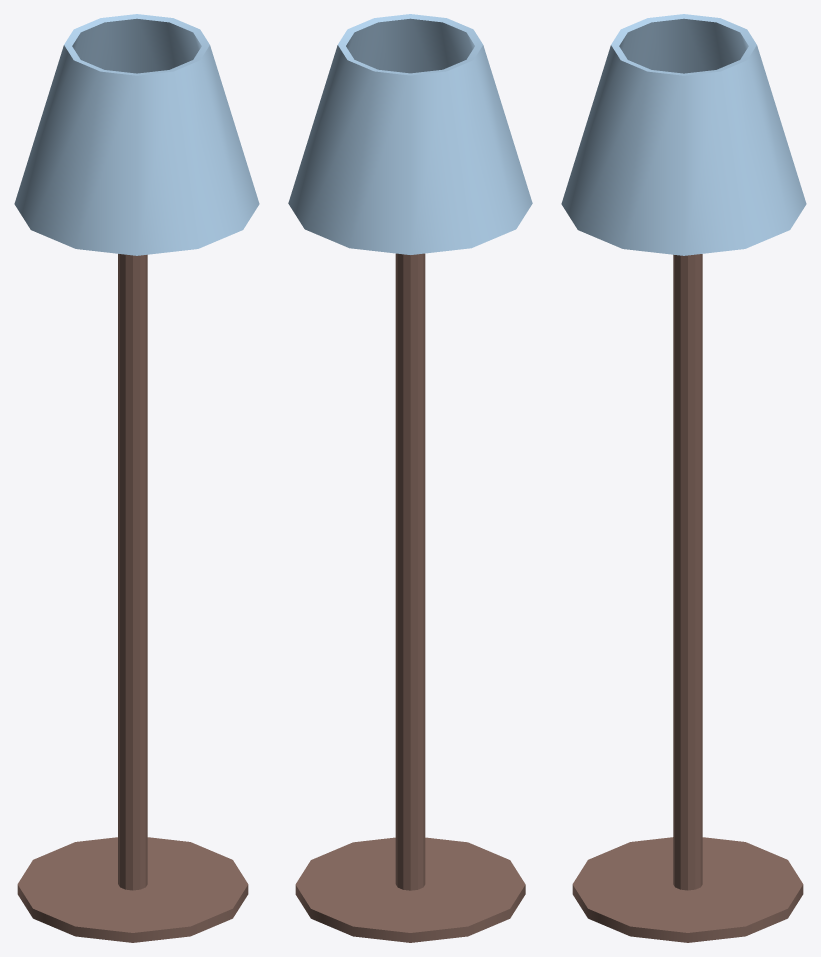
Rendered from Standing_lamp.FBX.
3 renders of one model, left to right at view 1: azimuth 30°, elevation 25°; view 2: azimuth 150°, elevation 25°; view 3: azimuth 270°, elevation 25°, orthographic.
Visible parts, largest first — view 1: Standing_Lamp; view 2: Standing_Lamp; view 3: Standing_Lamp.
Boxes of the visible parts, x1,y1,x2,y2 form: Standing_Lamp: [14, 14, 259, 942]; Standing_Lamp: [288, 14, 532, 942]; Standing_Lamp: [561, 14, 806, 942].
Bounding box in the file's own units: 11.42 × 43.69 × 11.42.
